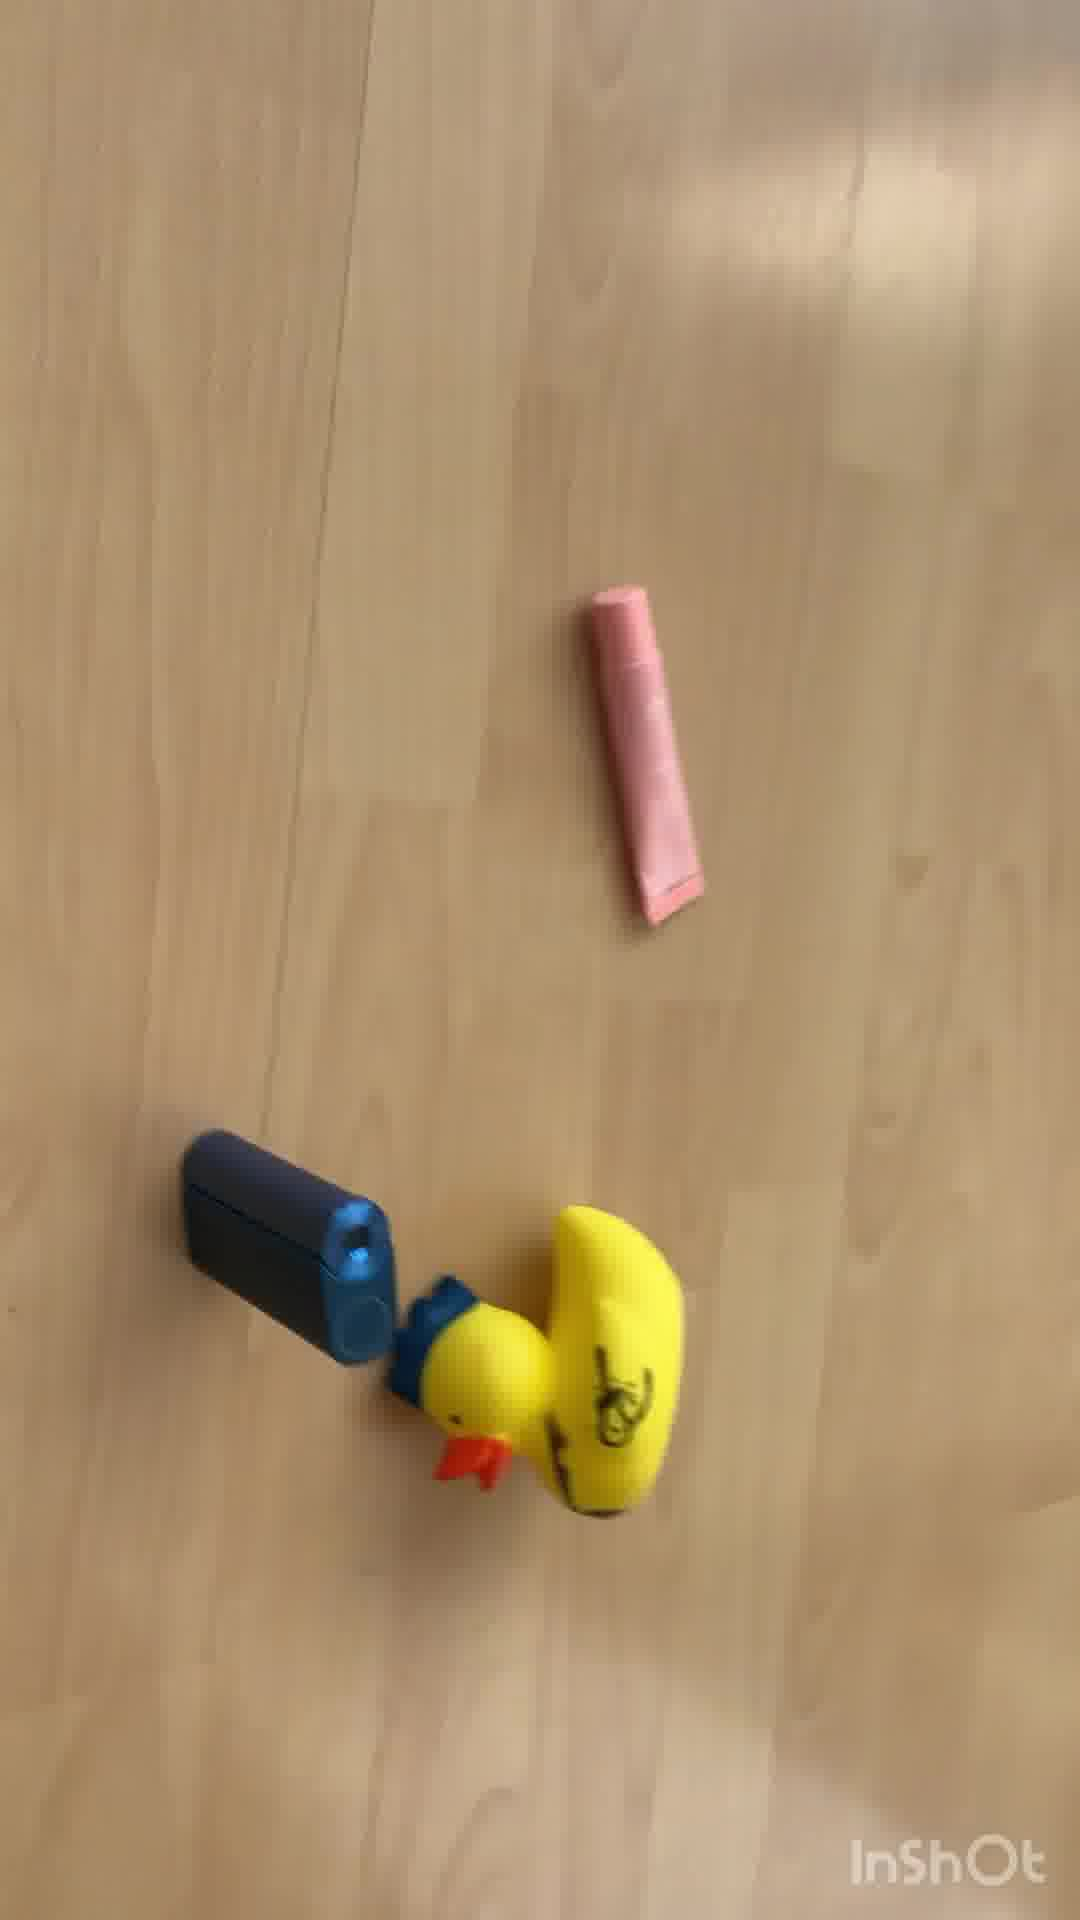duck: (386, 1172, 698, 1534)
glo: (179, 1126, 396, 1367)
lip balm: (585, 572, 690, 934)
